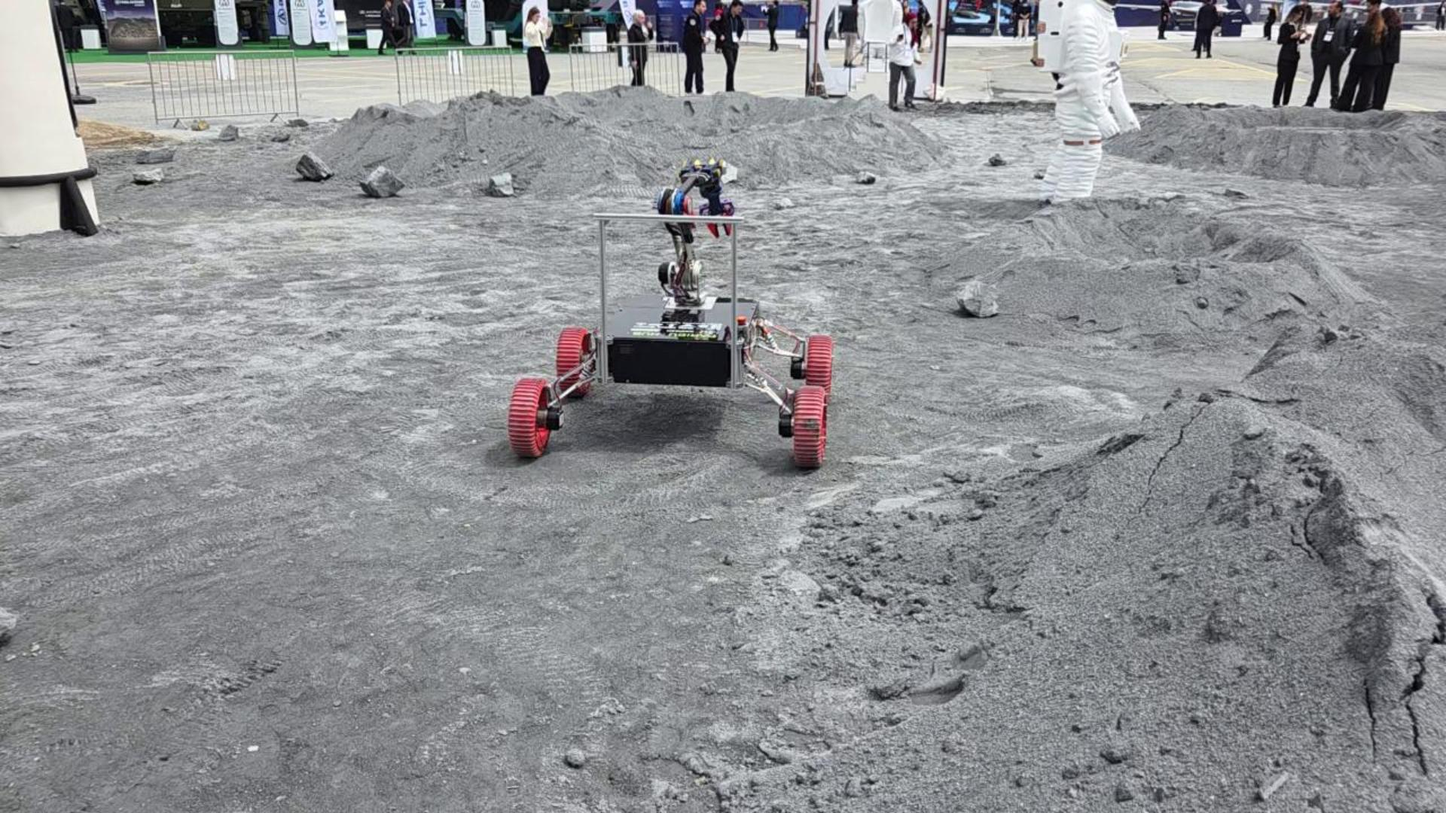rock: (956, 279, 998, 316), (358, 165, 403, 198), (295, 152, 333, 181), (487, 172, 514, 196), (134, 148, 174, 164), (132, 167, 163, 184), (218, 124, 238, 141), (1223, 187, 1248, 199), (855, 172, 878, 184), (987, 154, 1007, 166)
